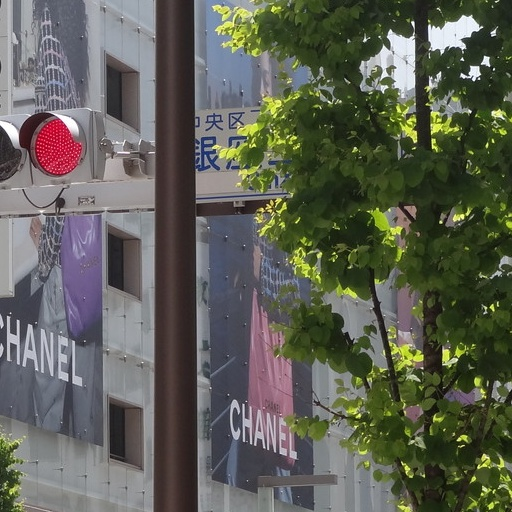Traffic_Signal_Red: (5, 107, 102, 178)
